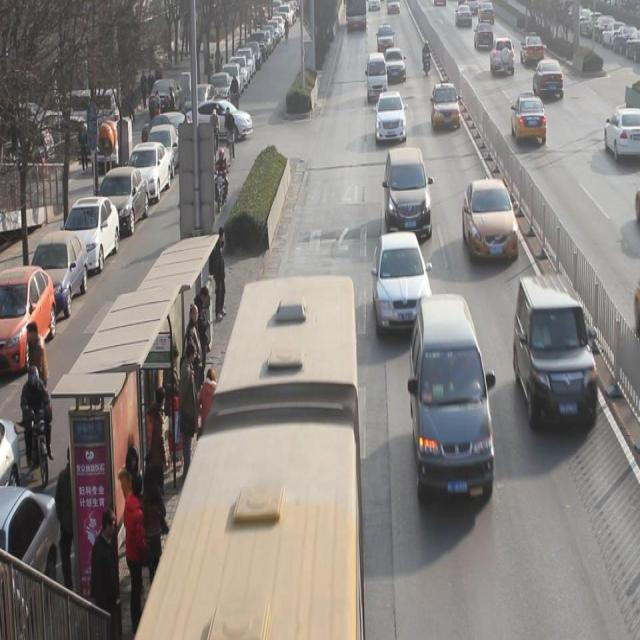car: (514, 273, 598, 429), (374, 230, 432, 328), (462, 180, 519, 263), (384, 148, 432, 236), (604, 104, 640, 159), (512, 91, 547, 145), (431, 81, 460, 131), (377, 90, 405, 141), (532, 57, 564, 99), (492, 36, 515, 74), (385, 48, 406, 84), (520, 34, 544, 64), (474, 22, 495, 50), (376, 25, 394, 53)
truck: (410, 296, 494, 502), (367, 50, 388, 99)
van: (134, 274, 362, 640)
